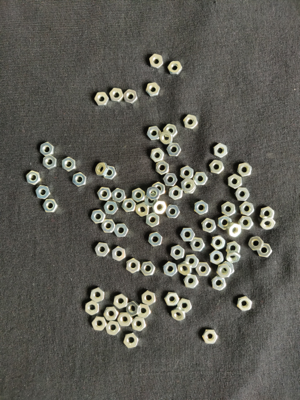nut: (202, 329, 218, 345), (124, 333, 139, 349), (238, 296, 253, 312), (92, 316, 108, 331), (90, 287, 105, 303), (249, 236, 265, 251), (202, 218, 217, 234), (194, 200, 209, 216), (183, 114, 199, 129), (94, 92, 110, 107), (106, 321, 121, 336), (132, 317, 147, 332), (95, 242, 110, 257), (141, 262, 156, 277), (184, 274, 199, 289), (212, 276, 227, 291), (217, 264, 232, 279), (218, 216, 233, 231), (238, 163, 253, 178), (43, 155, 58, 170), (146, 186, 161, 201), (181, 178, 196, 193), (210, 160, 225, 175), (150, 148, 165, 163), (147, 126, 162, 141), (164, 293, 180, 307), (190, 238, 206, 252), (149, 232, 163, 248), (238, 216, 254, 230), (260, 217, 276, 231), (239, 202, 255, 216), (165, 205, 181, 219), (103, 201, 119, 215), (150, 54, 164, 70), (118, 313, 133, 327), (85, 301, 99, 316), (104, 307, 119, 321), (114, 294, 128, 309), (127, 301, 141, 316), (142, 291, 156, 306), (172, 307, 186, 322), (112, 247, 126, 262), (164, 262, 178, 277), (196, 263, 211, 277), (178, 262, 193, 276), (211, 236, 226, 250), (258, 244, 273, 258), (181, 228, 196, 242), (101, 219, 116, 233), (91, 210, 106, 224), (228, 223, 242, 238), (222, 202, 236, 217), (228, 174, 242, 189), (146, 213, 160, 228), (36, 185, 51, 199), (73, 172, 87, 187), (62, 157, 76, 172), (97, 187, 112, 201), (111, 189, 126, 203), (122, 199, 137, 213), (136, 202, 150, 217), (132, 188, 146, 203), (163, 173, 178, 187), (193, 172, 208, 186), (214, 143, 228, 158), (167, 143, 182, 157), (110, 88, 124, 103), (124, 90, 138, 105), (146, 82, 160, 97), (127, 258, 140, 274), (178, 299, 192, 313), (185, 255, 199, 269), (210, 251, 224, 265), (171, 246, 185, 260), (41, 143, 55, 157), (95, 163, 109, 177), (153, 201, 167, 215), (152, 182, 166, 196), (169, 186, 183, 200), (156, 161, 170, 175), (164, 124, 178, 138), (226, 251, 241, 264), (114, 224, 129, 237), (235, 188, 250, 201), (43, 200, 58, 213), (26, 172, 41, 185), (145, 193, 158, 208), (160, 130, 173, 145), (168, 62, 183, 75), (221, 262, 235, 275), (104, 166, 117, 180), (181, 166, 194, 180), (260, 207, 275, 219), (138, 305, 151, 318), (226, 242, 241, 253), (184, 184, 197, 194)
